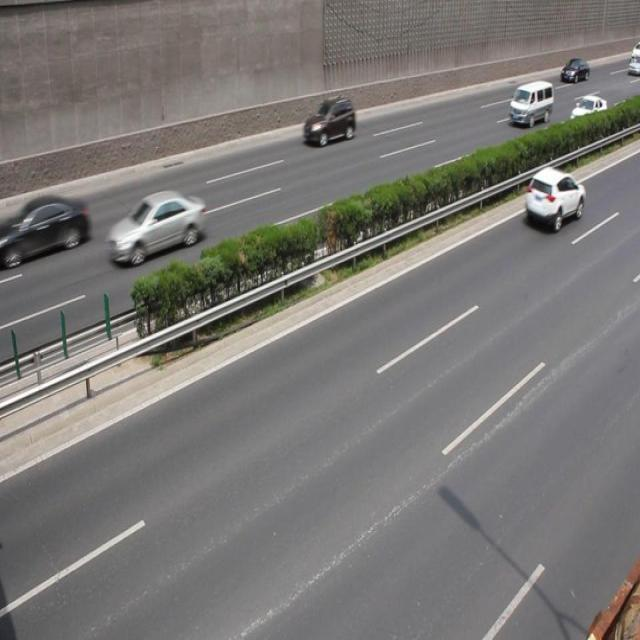car: (107, 192, 203, 264), (15, 198, 90, 262), (524, 166, 584, 233), (302, 100, 355, 147), (567, 95, 606, 129), (559, 56, 588, 82)
truck: (506, 80, 553, 126)
